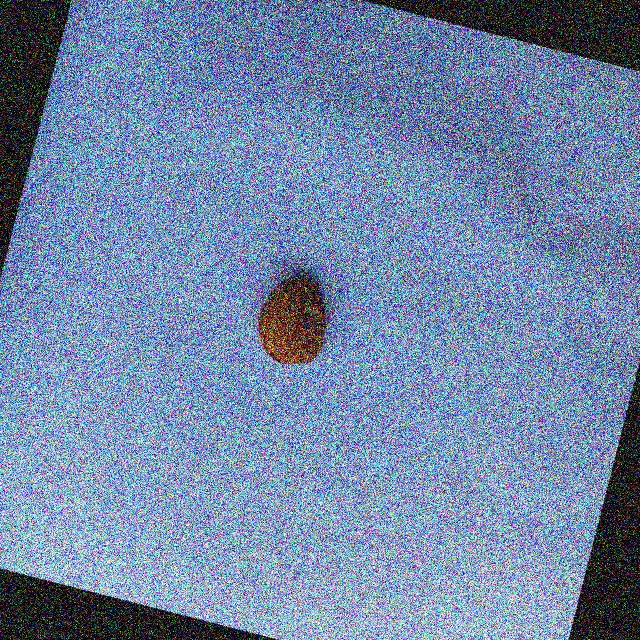grade3: (247, 263, 344, 377)
